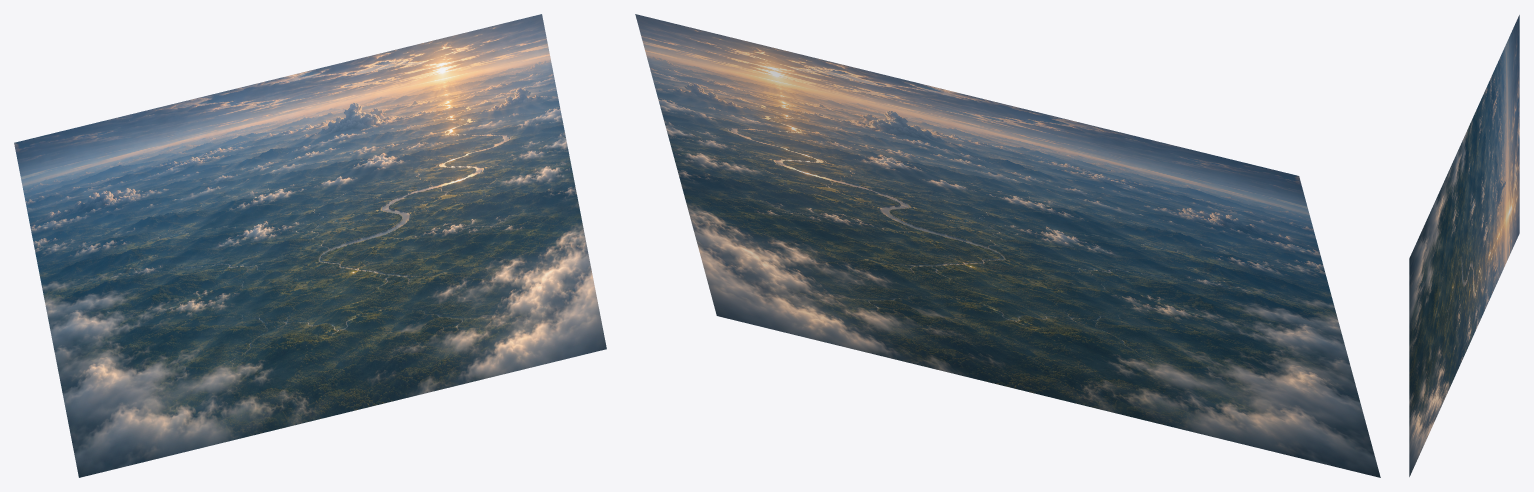
File: regional.glb
The picture shows the model from 3 angles, left to right: view 1: azimuth 30°, elevation 25°; view 2: azimuth 150°, elevation 25°; view 3: azimuth 270°, elevation 25°; orthographic projection. The views are drawn at different scales.
Parts seen in each view (by area): view 1: Matte regional distant backdrop; view 2: Matte regional distant backdrop; view 3: Matte regional distant backdrop.
Boxes of the visible parts, bbox=[...] form: Matte regional distant backdrop: bbox=[14, 14, 606, 477]; Matte regional distant backdrop: bbox=[635, 14, 1380, 477]; Matte regional distant backdrop: bbox=[1409, 15, 1519, 476].
Bounding box in the file's own units: 225 × 117 × 47.92.
1 material, 1 textured.
